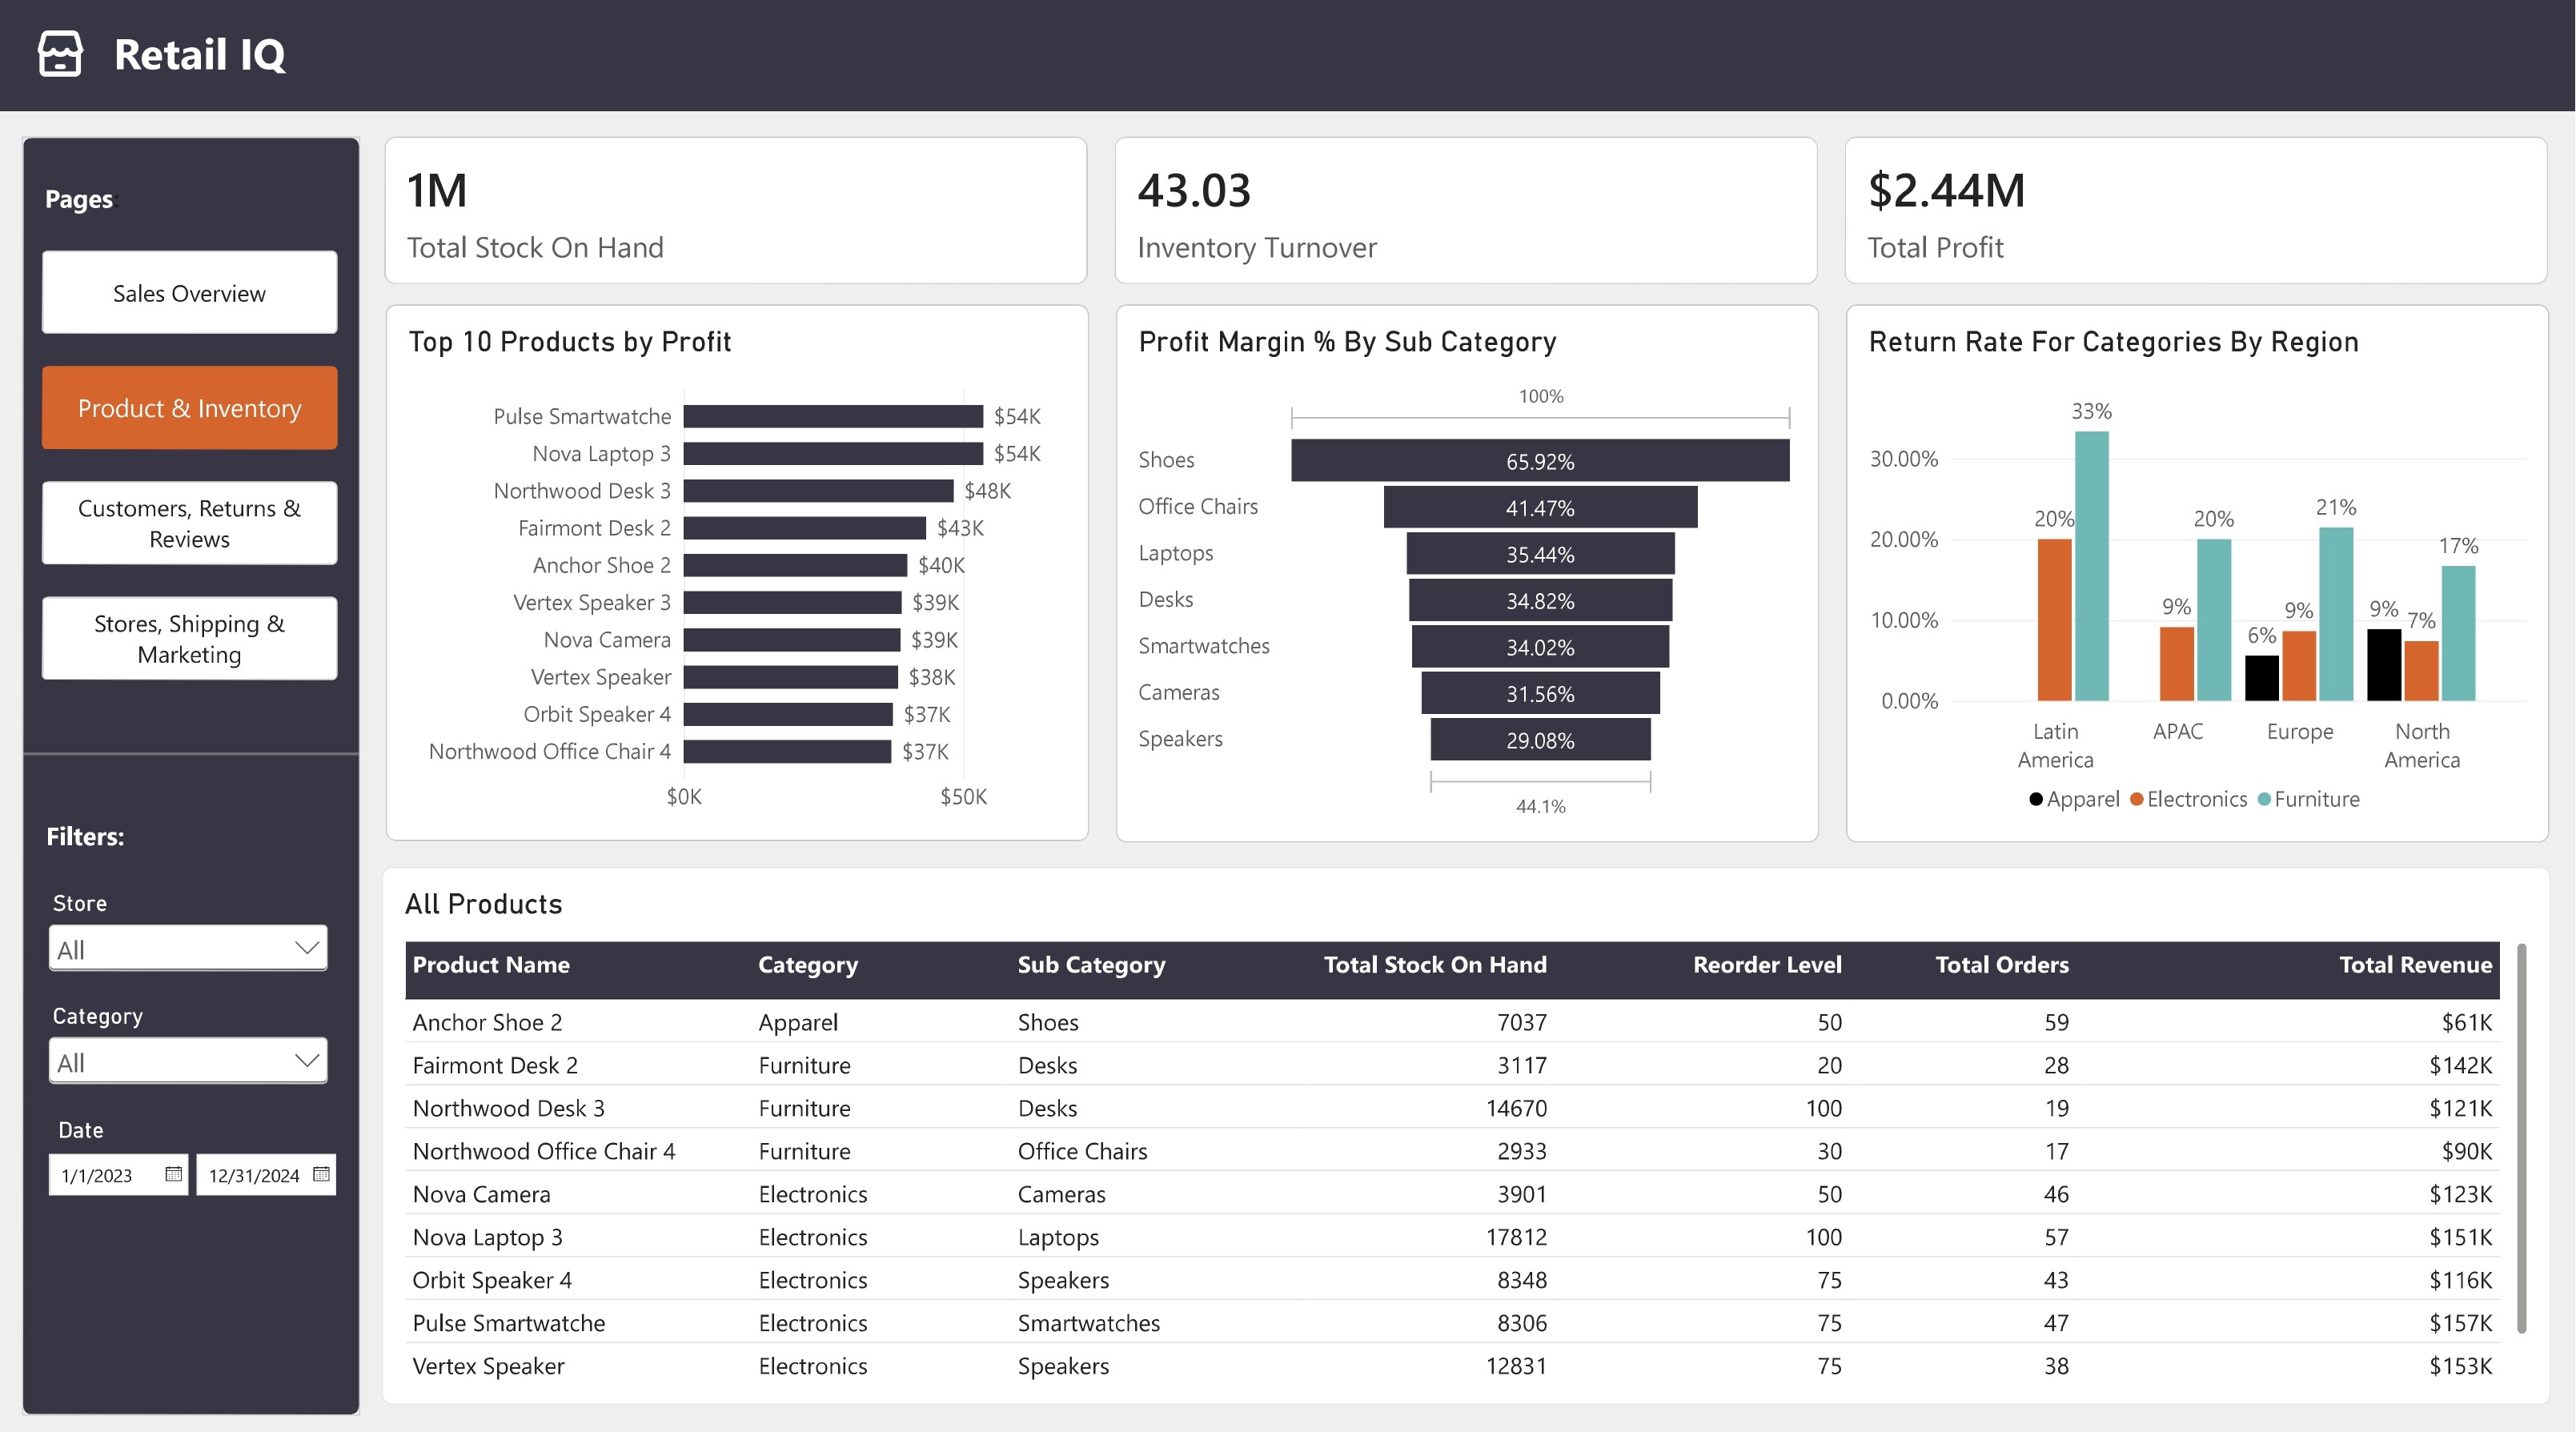

What the dashboard file says about the page in this screenshot:
{"tool":"powerbi","page":{"name":"Product & Inventory","canvas":[1920,1080],"ordinal":1},"visuals":[{"type":"shape","box":[0,0,1920.7,85.9],"z":0},{"type":"barChart","title":"Top 10 Products by Profit","fields":{"Category":["Dim_Product.ProductName"],"Y":["_Measures.Total Profit"]},"box":[289.4,230.1,524,400],"z":1000},{"type":"shape","box":[17.5,105,252.5,952.5],"z":2000},{"type":"pageNavigator","box":[32.5,190,220,322.5],"z":3000},{"type":"slicer","fields":{"Values":["Dim_Store.StoreName"]},"box":[33.1,666,217.5,62.5],"z":4000},{"type":"textbox","box":[36,613,122,35],"z":5000},{"type":"slicer","fields":{"Values":["Dim_Product.Category"]},"box":[33.1,749.8,217.5,62.5],"z":6000},{"type":"textbox","box":[34.6,138.5,122.3,34.6],"z":7000},{"type":"shape","box":[17.7,540,252.3,50],"z":8000},{"type":"image","box":[23.1,26.2,46.9,33.8],"z":9000},{"type":"textbox","box":[86,20,478,62],"z":10000},{"type":"cardVisual","fields":{"Data":["_Measures.Total Stock On Hand","_Measures.Inventory Turnover","_Measures.Total Profit"]},"box":[287.5,105,1612.5,110],"z":11000},{"type":"clusteredColumnChart","title":"Return Rate For Categories By Region","fields":{"Category":["Dim_Region.RegionName"],"Series":["Dim_Product.Category"],"Y":["_Measures.Return Rate %"]},"box":[1376.7,229.7,524,400.9],"z":12000},{"type":"tableEx","title":"All Products","fields":{"Values":["Dim_Product.ProductName","Dim_Product.Category","Dim_Product.SubCategory","_Measures.Total Stock On Hand","Dim_Product.ReorderLevel","_Measures.Total Orders","_Measures.Total Revenue"]},"box":[286.3,649,1615.3,400.8],"z":13000},{"type":"funnel","title":"Profit Margin % By Sub Category","fields":{"Category":["Dim_Product.SubCategory"],"Y":["_Measures.Profit Margin %"]},"box":[833,229.7,524,400.9],"z":14000},{"type":"slicer","title":"Date","fields":{"Values":["Dim_Date.Date"]},"box":[30,858.3,236.7,95],"z":15000},{"type":"textbox","box":[45,835,85,23.3],"z":16000}]}

Visuals, with their boxes on the page's 1920x1080 design canvas (x1, y1, x2, y2). These are canvas units, not pixel positions in the 2576x1432 screenshot, which may show the page scaled, cropped or inside an application window:
shape: 0, 0, 1921, 86
"Top 10 Products by Profit" barChart: 289, 230, 813, 630
shape: 18, 105, 270, 1058
pageNavigator: 32, 190, 252, 512
slicer - Dim_Store.StoreName: 33, 666, 251, 728
textbox: 36, 613, 158, 648
slicer - Dim_Product.Category: 33, 750, 251, 812
textbox: 35, 138, 157, 173
shape: 18, 540, 270, 590
image: 23, 26, 70, 60
textbox: 86, 20, 564, 82
cardVisual - _Measures.Total Stock On Hand x _Measures.Inventory Turnover: 288, 105, 1900, 215
"Return Rate For Categories By Region" clusteredColumnChart: 1377, 230, 1901, 631
"All Products" tableEx: 286, 649, 1902, 1050
"Profit Margin % By Sub Category" funnel: 833, 230, 1357, 631
"Date" slicer: 30, 858, 267, 953
textbox: 45, 835, 130, 858
